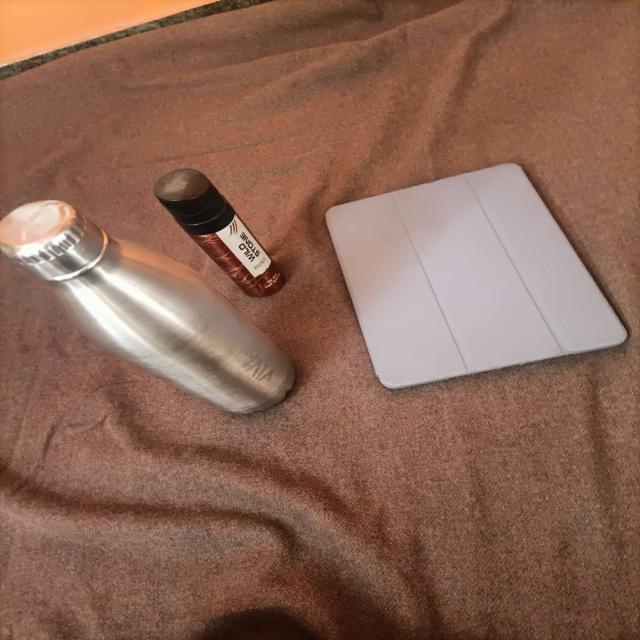bottle: (0, 160, 305, 438)
spray: (118, 124, 331, 307)
tablet: (309, 121, 632, 412)
